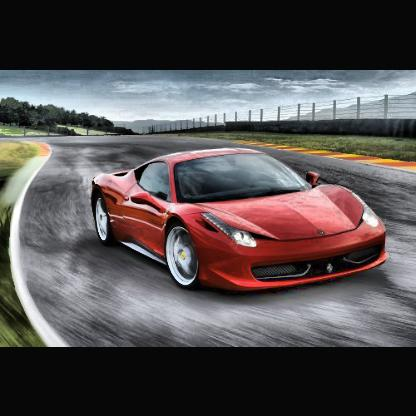Ferrari 458 Italia Coupe 2012: (92, 144, 389, 302)
